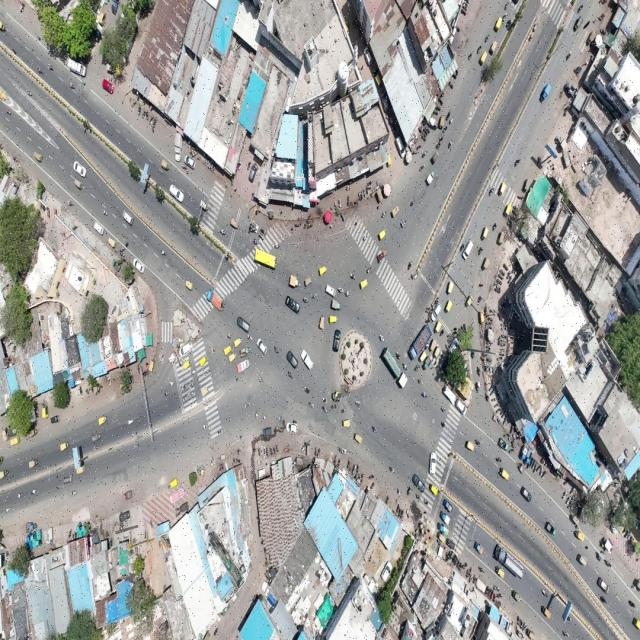3W: (73, 175, 85, 194), (598, 574, 610, 592), (570, 509, 581, 526), (496, 565, 506, 582), (315, 315, 327, 329), (499, 466, 510, 481), (511, 588, 521, 604), (427, 171, 435, 190), (437, 115, 447, 130), (480, 226, 489, 242), (575, 530, 587, 542), (494, 15, 503, 31), (199, 196, 208, 212), (62, 472, 72, 486), (161, 156, 170, 171), (390, 206, 401, 218), (332, 389, 342, 402), (169, 477, 179, 489), (28, 426, 40, 436), (229, 218, 239, 230), (327, 313, 339, 323), (480, 51, 488, 66), (58, 441, 68, 453), (429, 154, 438, 167), (465, 439, 474, 452), (500, 182, 509, 195), (429, 484, 438, 497), (490, 38, 497, 54), (28, 458, 38, 469), (499, 230, 507, 243), (483, 258, 491, 271), (379, 225, 385, 242), (304, 275, 313, 286), (200, 386, 209, 397), (76, 465, 85, 476), (199, 355, 208, 366), (42, 406, 49, 420), (445, 299, 453, 311), (360, 278, 368, 290), (34, 150, 42, 162), (438, 153, 444, 169), (149, 361, 156, 374), (466, 294, 473, 307), (228, 351, 235, 364), (224, 343, 231, 356), (505, 203, 512, 216), (10, 437, 20, 446), (185, 281, 195, 290), (92, 432, 102, 441), (447, 539, 455, 550), (354, 431, 362, 442), (439, 534, 446, 546), (234, 336, 241, 348), (435, 321, 441, 335), (182, 359, 190, 369), (434, 349, 442, 359), (320, 263, 326, 276), (448, 282, 454, 294), (431, 340, 437, 352), (97, 417, 107, 424), (480, 311, 486, 321), (344, 417, 350, 427)
Bus: (254, 245, 276, 274)
Cars: (495, 540, 524, 581), (430, 300, 445, 325), (426, 451, 439, 476), (169, 181, 184, 202), (74, 157, 87, 179), (300, 350, 314, 370), (456, 397, 469, 417), (178, 340, 194, 356), (236, 315, 250, 333), (285, 296, 299, 314), (285, 351, 300, 367), (462, 242, 474, 262), (102, 77, 114, 96), (332, 328, 341, 353), (445, 384, 455, 405), (412, 474, 424, 490), (257, 337, 267, 356), (132, 261, 146, 274), (124, 208, 134, 226), (519, 488, 531, 502), (93, 222, 105, 235), (286, 420, 298, 433), (185, 155, 195, 169), (50, 414, 61, 425), (4, 109, 14, 118)
LCV: (205, 289, 225, 311), (442, 496, 456, 514), (174, 134, 182, 162), (237, 358, 250, 374), (576, 553, 587, 570), (439, 508, 450, 524), (542, 82, 551, 101), (546, 520, 556, 537), (440, 522, 450, 539), (240, 346, 252, 360), (290, 272, 300, 288), (326, 284, 336, 299), (122, 488, 134, 500), (376, 250, 387, 263), (475, 376, 482, 396), (542, 606, 553, 618), (474, 542, 484, 554), (500, 436, 509, 449), (262, 426, 272, 436), (26, 522, 38, 530), (425, 357, 431, 372), (219, 226, 226, 237)
M2W: (626, 594, 636, 612), (559, 624, 570, 640), (343, 381, 351, 399), (475, 43, 484, 58), (353, 396, 363, 409), (320, 403, 330, 415), (47, 62, 56, 75), (486, 184, 494, 198), (34, 64, 44, 75), (340, 404, 349, 416), (254, 409, 262, 422), (490, 221, 500, 231), (244, 332, 254, 342), (423, 496, 432, 507), (189, 379, 197, 391), (419, 158, 425, 174), (474, 363, 482, 375), (400, 217, 407, 230), (388, 463, 395, 476), (106, 239, 116, 248), (67, 81, 76, 91), (502, 12, 511, 22), (584, 541, 592, 552), (93, 444, 100, 456), (160, 246, 167, 258), (476, 244, 483, 256), (477, 280, 484, 292), (438, 131, 445, 143), (417, 374, 424, 386), (475, 434, 481, 448), (127, 417, 136, 426), (30, 487, 39, 496), (286, 370, 294, 380), (405, 487, 413, 497), (494, 453, 502, 463), (566, 48, 572, 61), (440, 418, 446, 431), (441, 402, 447, 415), (365, 264, 372, 275), (376, 202, 383, 213), (372, 423, 379, 434), (311, 291, 318, 302), (595, 551, 602, 562), (517, 463, 524, 474), (77, 212, 84, 223), (515, 156, 521, 168), (4, 505, 13, 513), (320, 396, 328, 405), (478, 566, 486, 575), (604, 556, 610, 568), (26, 88, 32, 100), (102, 208, 108, 220), (17, 491, 23, 503), (244, 400, 250, 412), (395, 484, 401, 496), (302, 296, 309, 306), (466, 50, 473, 60), (330, 400, 337, 410), (599, 594, 606, 604), (337, 285, 344, 295), (378, 332, 385, 342), (457, 533, 464, 543), (190, 368, 197, 378), (362, 231, 368, 242), (459, 242, 465, 253), (542, 586, 548, 597), (216, 427, 222, 438), (402, 360, 408, 371), (407, 259, 412, 272), (232, 377, 241, 384), (422, 391, 429, 400), (484, 33, 491, 42), (419, 352, 426, 361), (328, 295, 337, 302), (447, 139, 454, 148), (169, 379, 176, 388), (258, 374, 264, 384), (410, 198, 416, 208), (422, 148, 427, 160), (436, 142, 442, 152), (226, 331, 233, 339), (448, 118, 455, 126), (396, 349, 401, 360), (274, 345, 280, 354), (20, 4, 26, 13), (350, 272, 356, 281), (308, 401, 314, 410), (188, 390, 194, 399), (164, 390, 170, 399), (415, 491, 421, 500), (466, 532, 471, 542), (205, 369, 212, 376), (413, 363, 420, 370), (71, 489, 77, 497), (345, 289, 350, 298), (437, 171, 442, 180), (181, 164, 187, 171), (304, 385, 310, 392), (382, 211, 387, 219), (183, 382, 188, 390), (203, 423, 208, 430)
MAV: (383, 345, 408, 392), (408, 318, 433, 362)
